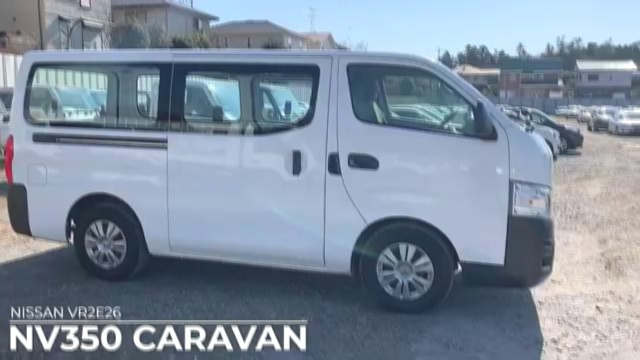van: (9, 48, 558, 313)
